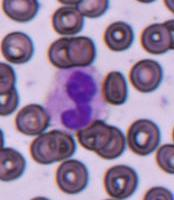N: (44, 64, 108, 132)
